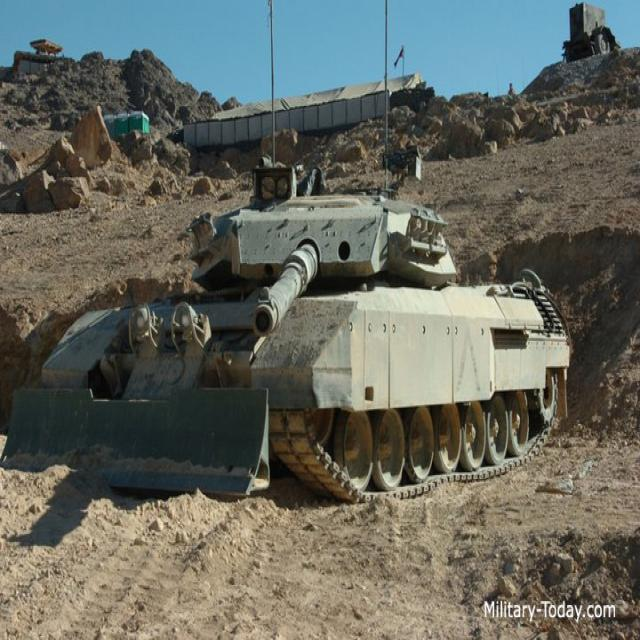Tank: (46, 177, 580, 501)
